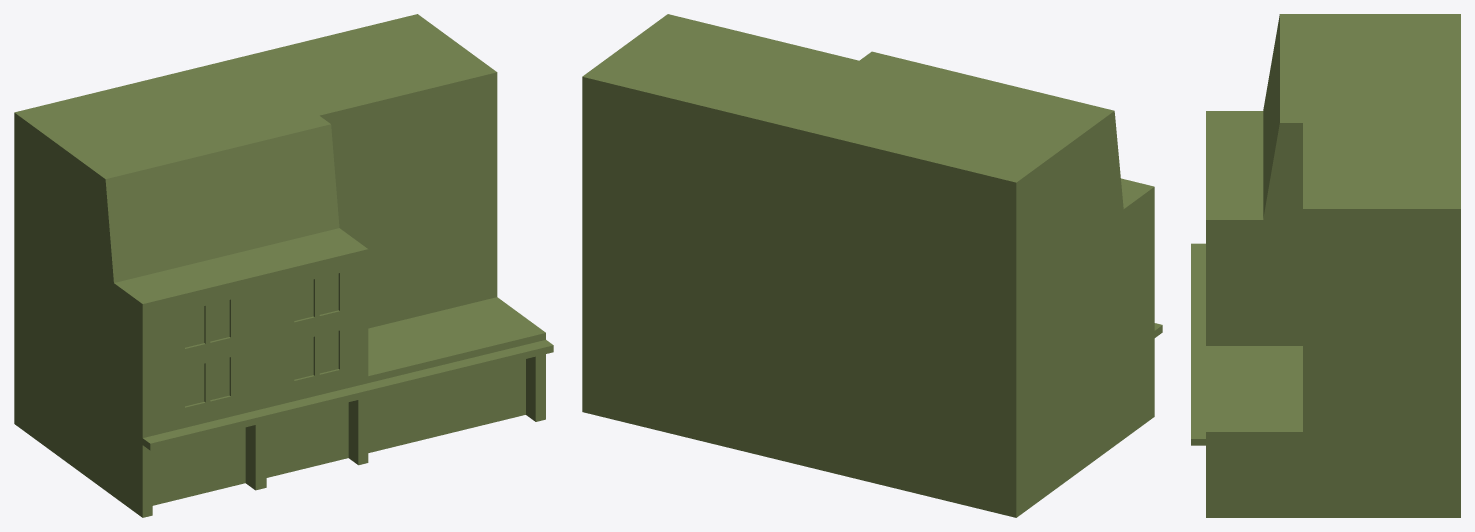
Rendered from chiswick.gltf.
3 views of the same model, side by side, from view 1: azimuth 30°, elevation 25°; view 2: azimuth 150°, elevation 25°; view 3: azimuth 270°, elevation 25° (orthographic). The views are drawn at different scales.
Parts seen in each view (by area): view 1: Plane; view 2: Plane; view 3: Plane.
Boxes of the visible parts, left/top/right/bottom form: Plane: left=14, top=14, right=553, bottom=517; Plane: left=582, top=14, right=1162, bottom=517; Plane: left=1191, top=14, right=1460, bottom=517.
Size of the model in its own units: 24.32 by 17.95 by 14.2.
